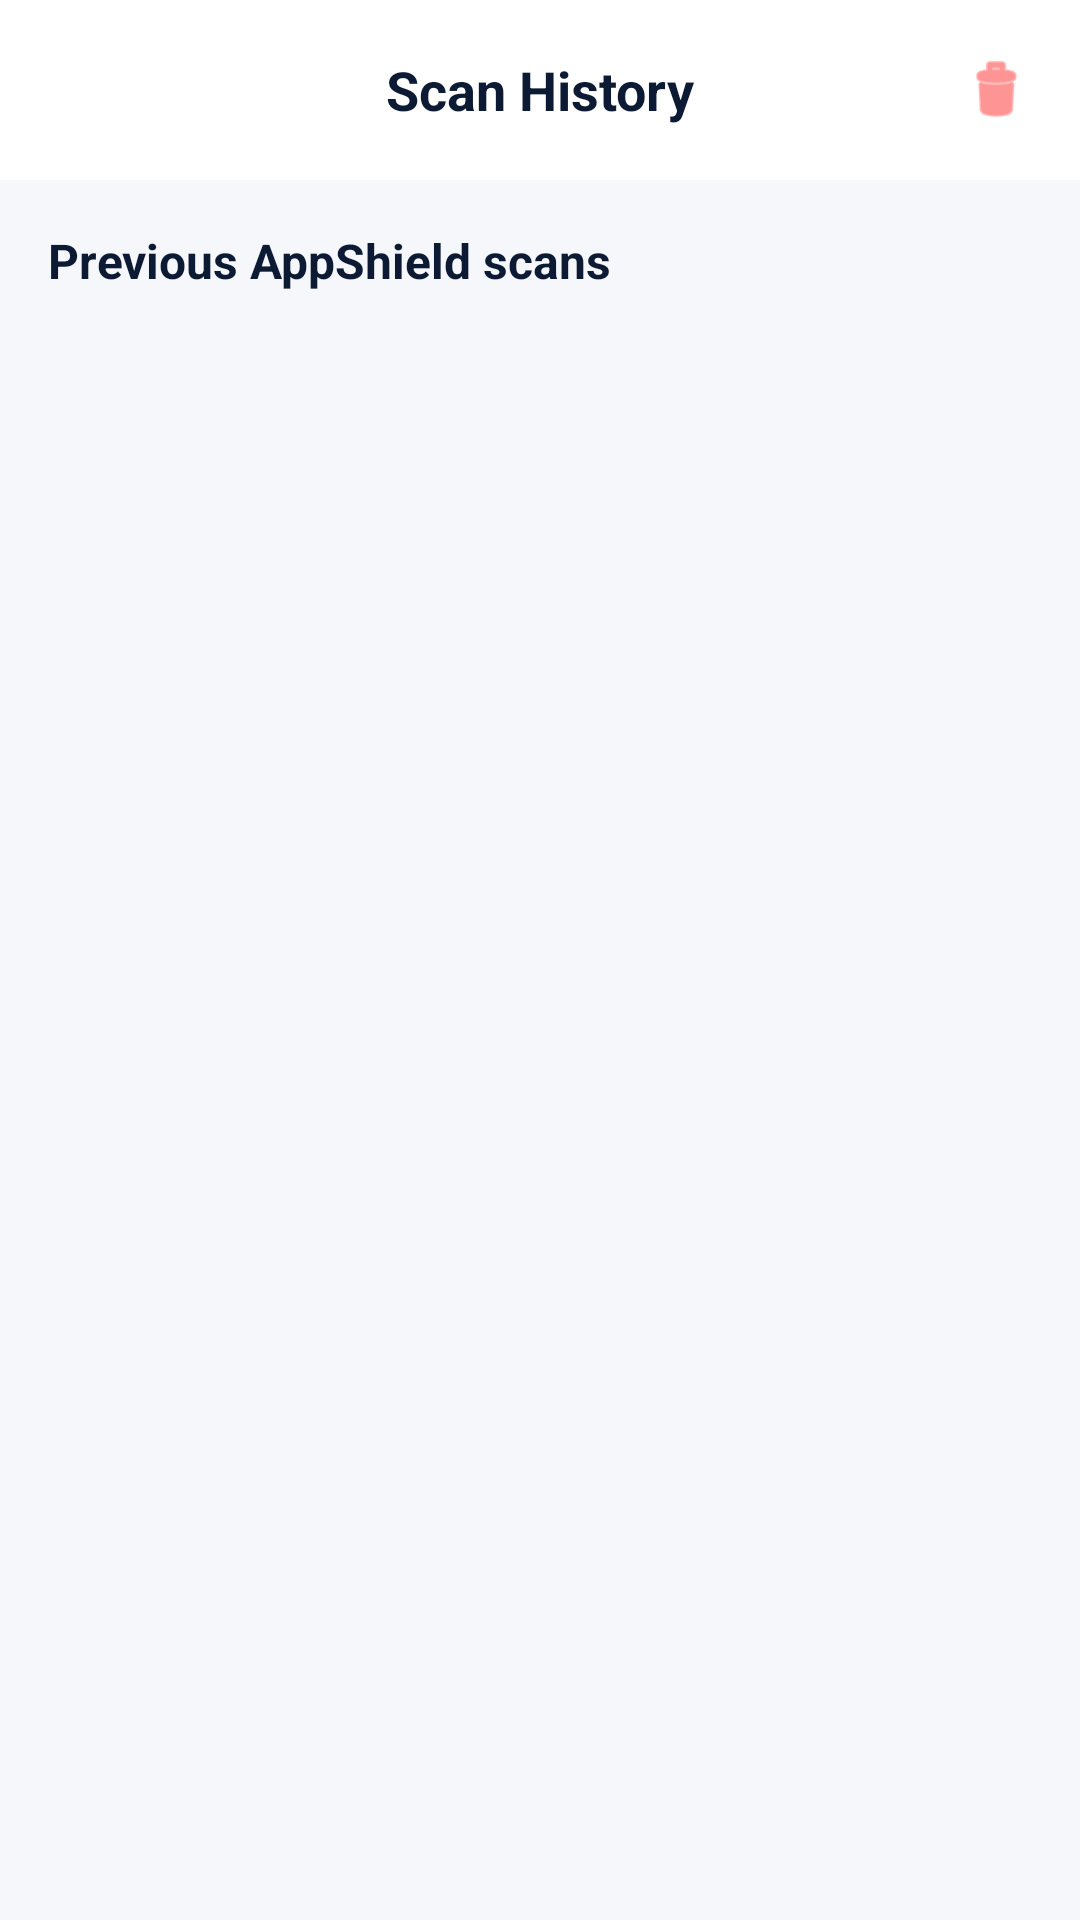

Where icons sit on this 1080px×1920px app screen, as (left=x1, top=y1, right=x2, bottom=y2):
Clear History: (left=976, top=61, right=1017, bottom=117)
